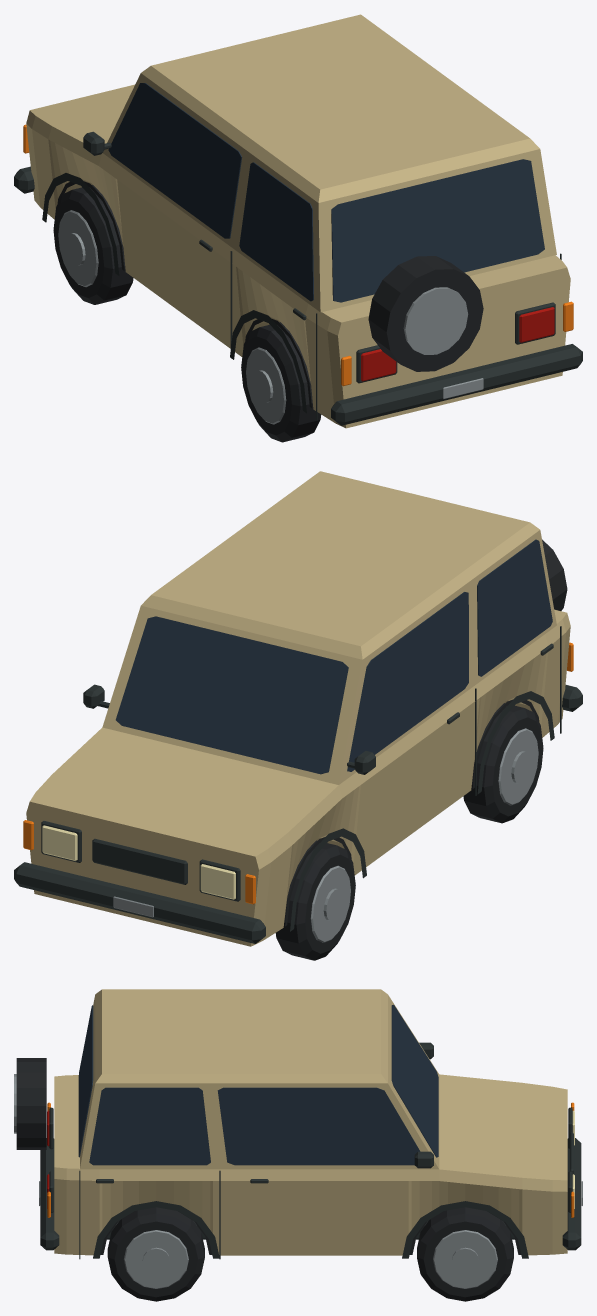
The model's file is 05_BoxSUV.fbx.
3 views of the same model, one above another, from view 1: azimuth 30°, elevation 25°; view 2: azimuth 150°, elevation 25°; view 3: azimuth 270°, elevation 25° (orthographic). The views are drawn at different scales.
Parts seen in each view (by area): view 1: Raked cabin with chamfered roof.004, Continuous body with open wheel arches.004, Framed rear windshield.004, Side glass -1 pane 1.004, Rear mounted spare tyre, Side glass -1 pane 0.004, Moulded bumper.009, WheelFL_ShapedSidewall.004, WheelRL_ShapedSidewall.004, Rear spare wheel centre, WheelFL_Rim.004, WheelRL_Rim.004 (+4 smaller); view 2: Continuous body with open wheel arches.004, Raked cabin with chamfered roof.004, Framed opaque windshield.004, Side glass -1 pane 1.004, Side glass -1 pane 0.004, Moulded bumper.008, WheelFL_ShapedSidewall.004, WheelRL_ShapedSidewall.004, Inset radiator grille.004, WheelFL_Rim.004, WheelRL_Rim.004, Headlamp.006 (+4 smaller); view 3: Continuous body with open wheel arches.004, Raked cabin with chamfered roof.004, Side glass 1 pane 1.004, Side glass 1 pane 0.004, WheelRR_ShapedSidewall.004, WheelFR_ShapedSidewall.004, Framed opaque windshield.004, Rear mounted spare tyre, WheelFR_Rim.004, WheelRR_Rim.004, Framed rear windshield.004, Moulded bumper.009 (+5 smaller).
Part boxes in pixels (<box>): Raked cabin with chamfered roof.004: <box>103,14,556,312</box>; Continuous body with open wheel arches.004: <box>26,84,570,428</box>; Framed rear windshield.004: <box>331,159,544,302</box>; Side glass -1 pane 1.004: <box>108,83,242,238</box>; Rear mounted spare tyre: <box>368,256,483,371</box>; Side glass -1 pane 0.004: <box>239,162,313,301</box>; Moulded bumper.009: <box>331,344,582,425</box>; WheelFL_ShapedSidewall.004: <box>53,185,133,304</box>; WheelRL_ShapedSidewall.004: <box>241,322,321,442</box>; Rear spare wheel centre: <box>403,287,468,354</box>; WheelFL_Rim.004: <box>58,210,98,287</box>; WheelRL_Rim.004: <box>246,347,286,424</box>; Continuous body with open wheel arches.004: <box>26,609,570,946</box>; Raked cabin with chamfered roof.004: <box>102,471,556,784</box>; Framed opaque windshield.004: <box>115,616,348,774</box>; Side glass -1 pane 1.004: <box>347,592,468,771</box>; Side glass -1 pane 0.004: <box>477,539,552,676</box>; Moulded bumper.008: <box>14,862,265,943</box>; WheelFL_ShapedSidewall.004: <box>275,840,355,960</box>; WheelRL_ShapedSidewall.004: <box>463,703,543,823</box>; Inset radiator grille.004: <box>92,838,187,884</box>; WheelFL_Rim.004: <box>310,865,350,942</box>; WheelRL_Rim.004: <box>498,728,538,805</box>; Headlamp.006: <box>200,864,235,899</box>; Continuous body with open wheel arches.004: <box>54,1074,567,1255</box>; Raked cabin with chamfered roof.004: <box>80,989,439,1169</box>; Side glass 1 pane 1.004: <box>217,1087,420,1165</box>; Side glass 1 pane 0.004: <box>89,1087,210,1165</box>; WheelRR_ShapedSidewall.004: <box>107,1207,204,1301</box>; WheelFR_ShapedSidewall.004: <box>417,1207,513,1301</box>; Framed opaque windshield.004: <box>391,1004,438,1157</box>; Rear mounted spare tyre: <box>16,1058,46,1149</box>; WheelFR_Rim.004: <box>433,1230,497,1288</box>; WheelRR_Rim.004: <box>124,1230,188,1288</box>; Framed rear windshield.004: <box>78,1005,93,1157</box>; Moulded bumper.009: <box>40,1138,59,1250</box>.
Size of the model in its own units: 217 by 196 by 457.
